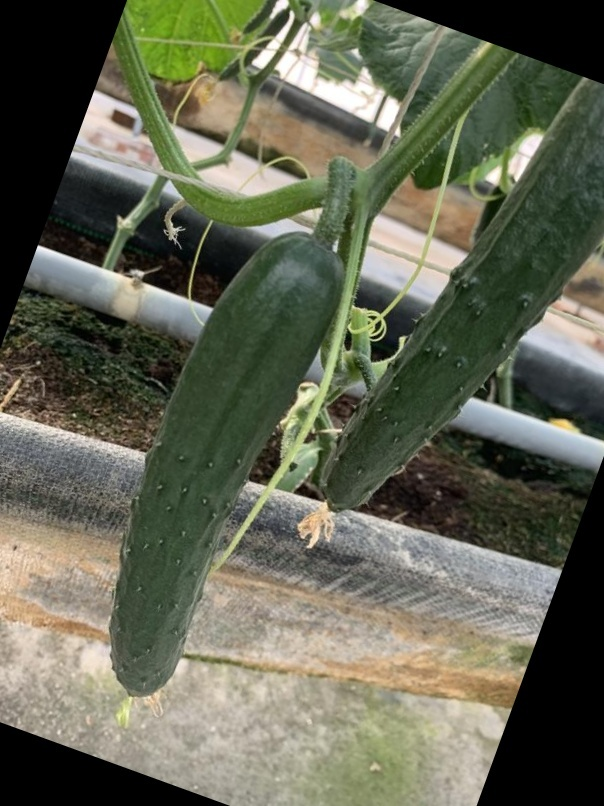mature: (329, 81, 604, 505), (101, 244, 308, 712)
